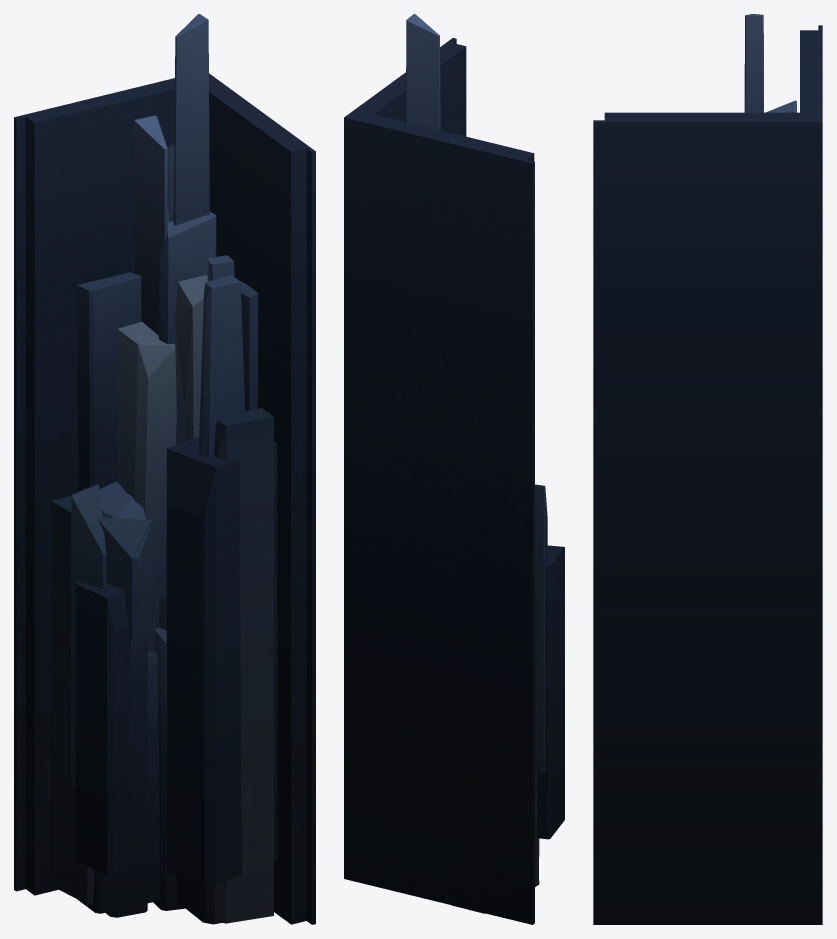
Rendered from Wall_corner_01.glb.
The picture shows the model from 3 angles, left to right: view 1: azimuth 30°, elevation 25°; view 2: azimuth 150°, elevation 25°; view 3: azimuth 270°, elevation 25°; orthographic projection. The views are drawn at different scales.
Parts seen in each view (by area): view 1: Wall_corner_01; view 2: Wall_corner_01; view 3: Wall_corner_01.
Boxes of the visible parts, x1,y1,x2,y2 form: Wall_corner_01: (14, 14, 315, 924); Wall_corner_01: (344, 14, 564, 924); Wall_corner_01: (593, 14, 822, 924).
Size of what is drawn, in the model's own units: 14 by 60.6 by 14.
Materials: 1 (1 with a texture image).
